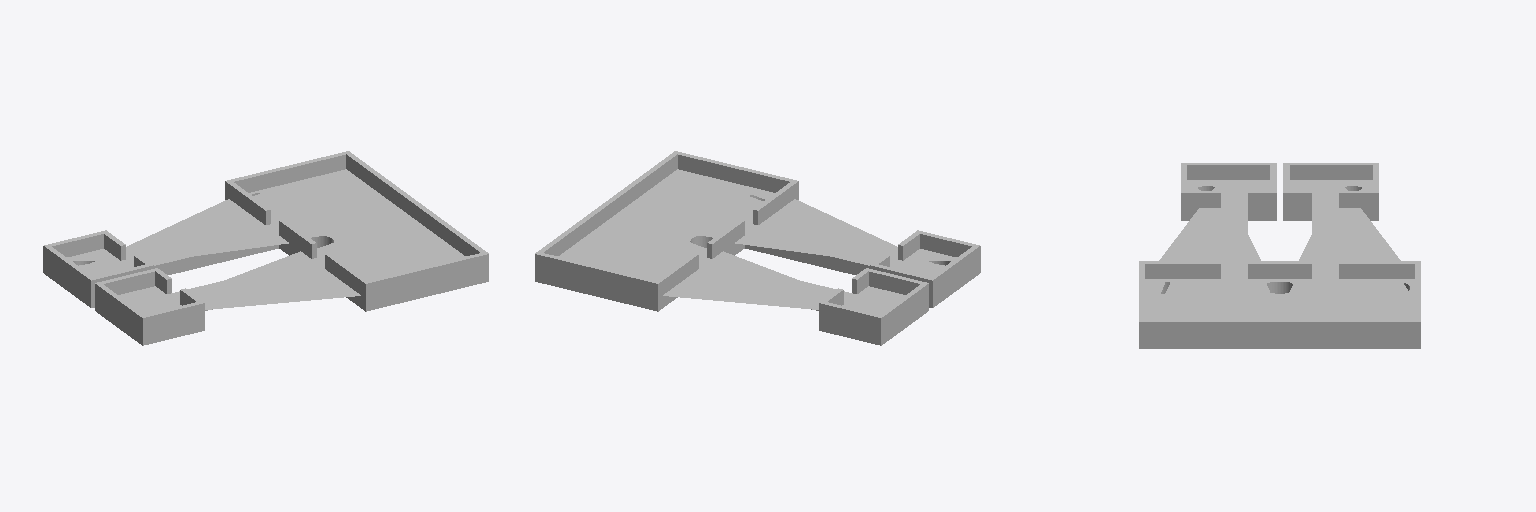
File: lvl17.obj
The picture shows the model from 3 angles: view 1: azimuth 30°, elevation 25°; view 2: azimuth 150°, elevation 25°; view 3: azimuth 270°, elevation 25°; orthographic projection.
Visible parts, largest first — view 1: Cube.001_Cube.003; view 2: Cube.001_Cube.003; view 3: Cube.001_Cube.003.
Part boxes in pixels (x1,y1,x2,y2): Cube.001_Cube.003: (43, 151, 488, 345); Cube.001_Cube.003: (535, 151, 980, 345); Cube.001_Cube.003: (1139, 163, 1420, 348).
Bounding box in the file's own units: 3.69 × 0.3 × 2.76.